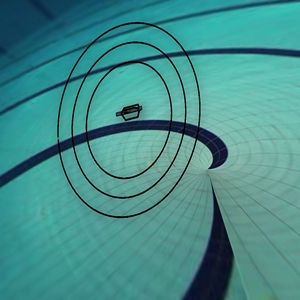circle: (45, 17, 219, 225)
submarine: (110, 95, 149, 131)
